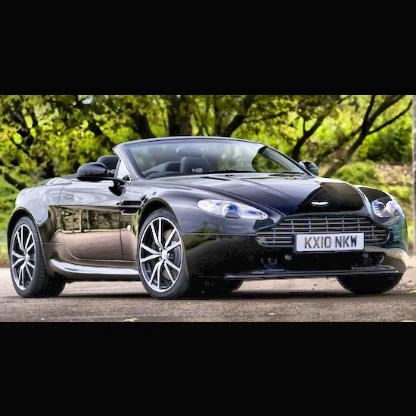Aston Martin V8 Vantage Convertible 2012: (9, 137, 409, 300)
